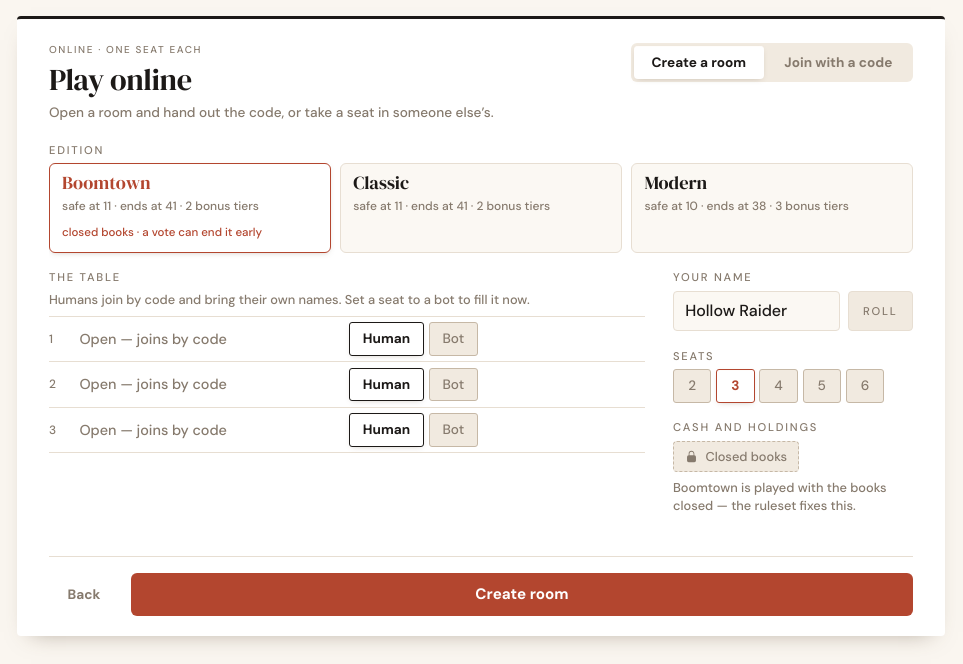
CreateJoin › refuses a blank name instead of silently joining as "Player" (#16)
Clear the field labelled "Your name" at point(756, 311), box [673,291,840,331]
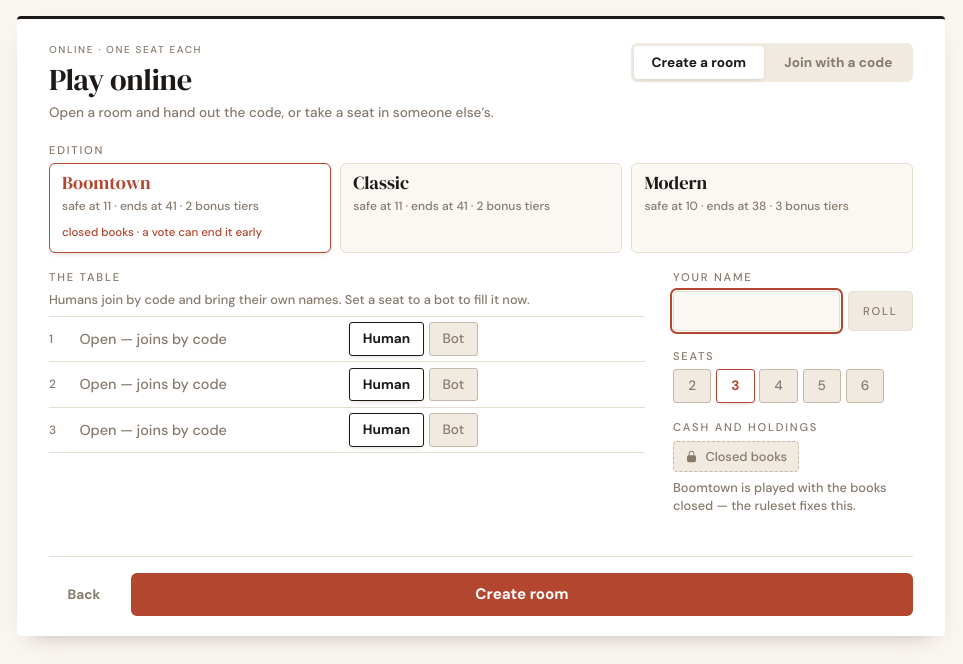
Click the button "Create room".
click(522, 594)  # box [131,573,913,616]
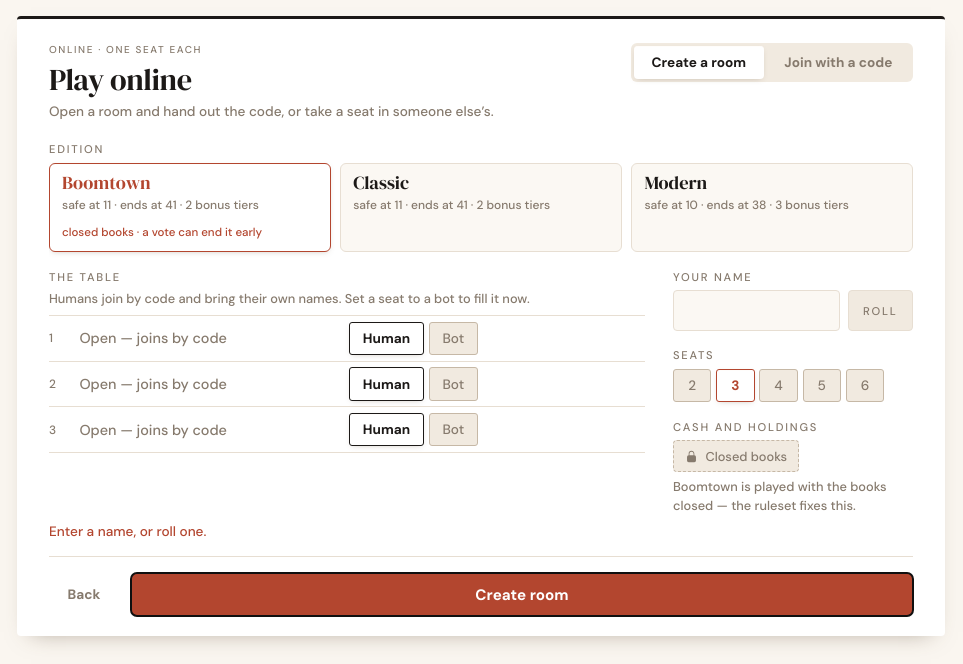
expect the message shows "name": met, box [49,524,206,540]
